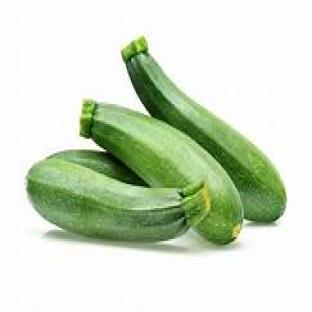Zucchini: (122, 37, 286, 222), (80, 101, 242, 244), (27, 159, 210, 240), (49, 150, 145, 186)
